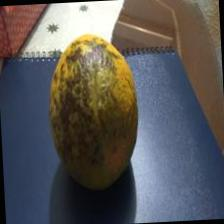Orange Rotten: (37, 22, 158, 202)
